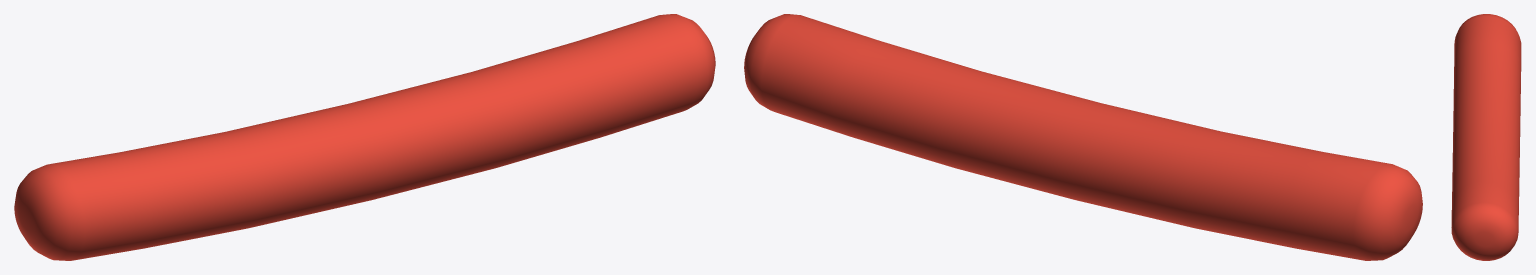
The model's file is sausage.dae.
The picture shows the model from 3 angles, left to right: view 1: azimuth 30°, elevation 25°; view 2: azimuth 150°, elevation 25°; view 3: azimuth 270°, elevation 25°; orthographic projection. The views are drawn at different scales.
Visible parts, largest first — view 1: Sausage; view 2: Sausage; view 3: Sausage.
Part boxes in pixels (box(x1,y1,x2,y2)): Sausage: box(14, 14, 715, 260); Sausage: box(744, 14, 1422, 260); Sausage: box(1451, 14, 1521, 260).
Bounding box in the file's own units: 5.73 × 0.8186 × 0.8448.
